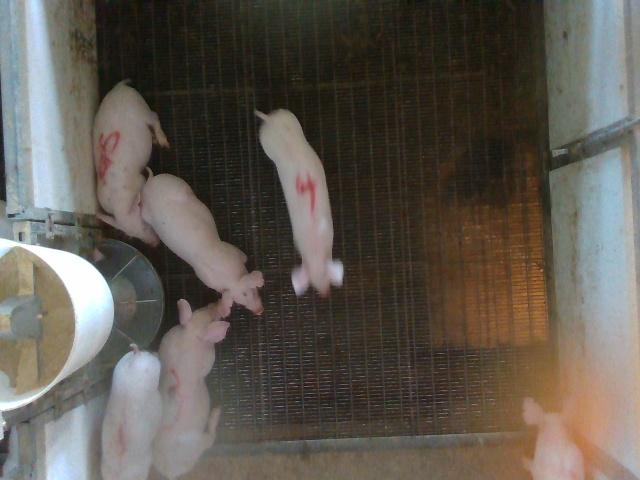pig-1: (101, 345, 162, 479)
pig-3: (152, 300, 230, 478)
pig-4: (256, 109, 344, 297)
pig-5: (94, 80, 169, 246)
